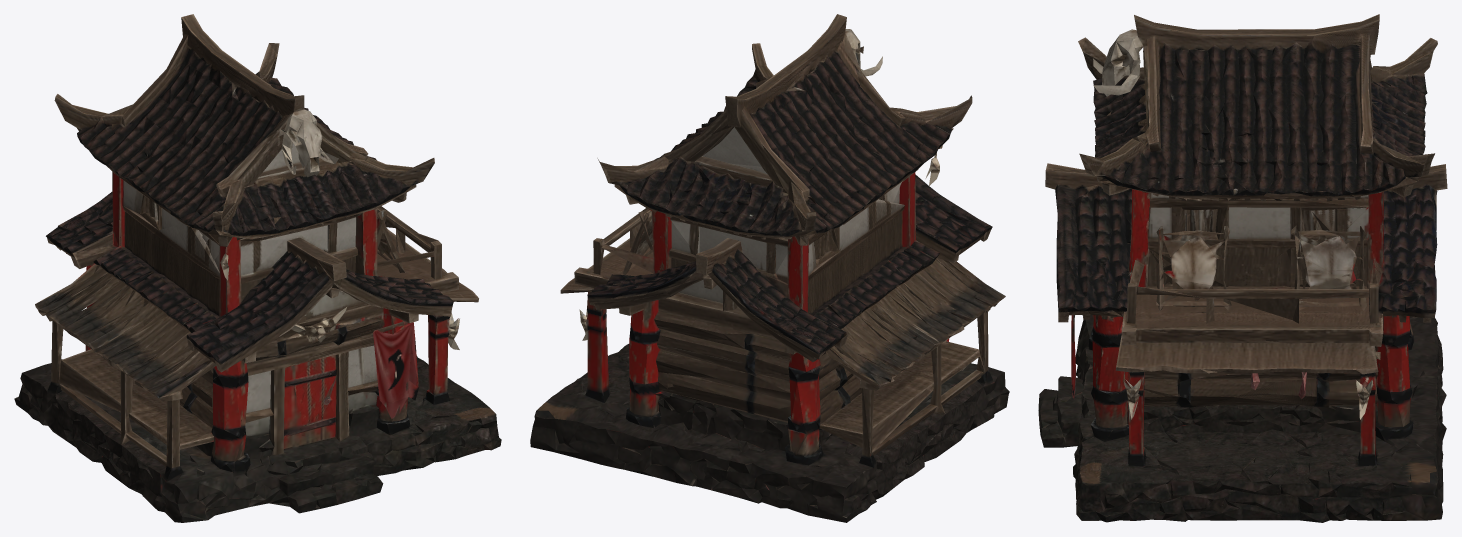
The model's file is house_shop_b.glb.
3 views of the same model, side by side, from view 1: azimuth 30°, elevation 25°; view 2: azimuth 150°, elevation 25°; view 3: azimuth 270°, elevation 25° (orthographic). The views are drawn at different scales.
Parts seen in each view (by area): view 1: house_shop_b; view 2: house_shop_b; view 3: house_shop_b.
Boxes of the visible parts, x1,y1,x2,y2 form: house_shop_b: [14, 14, 501, 522]; house_shop_b: [530, 14, 1009, 522]; house_shop_b: [1038, 14, 1447, 522].
Size of the model in its own units: 8.49 by 9 by 8.12.
Materials: 1 (1 with a texture image).
